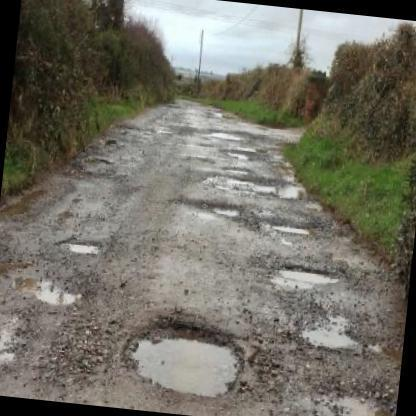pothole: (121, 310, 248, 406), (302, 375, 398, 416), (290, 305, 365, 356), (15, 266, 84, 310), (194, 197, 260, 233), (271, 263, 345, 294), (0, 316, 47, 364), (236, 171, 304, 202), (264, 214, 328, 242), (63, 237, 104, 257), (228, 146, 258, 164)
